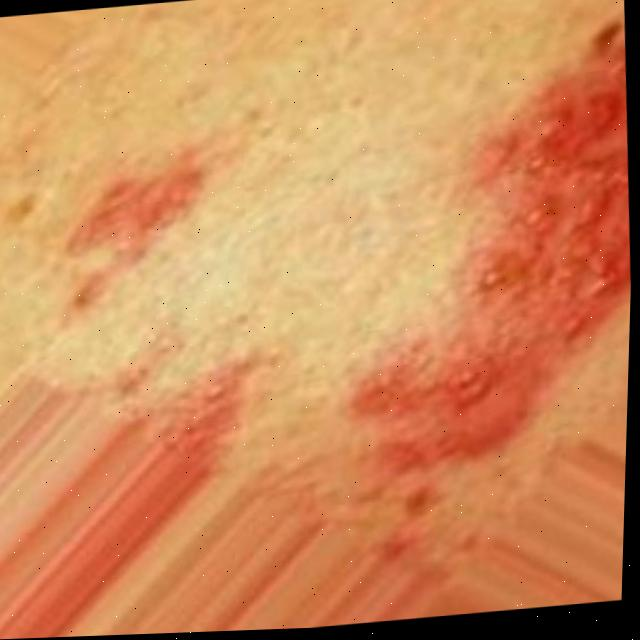Shingles: (323, 30, 638, 497), (46, 149, 221, 293), (149, 342, 265, 450)
